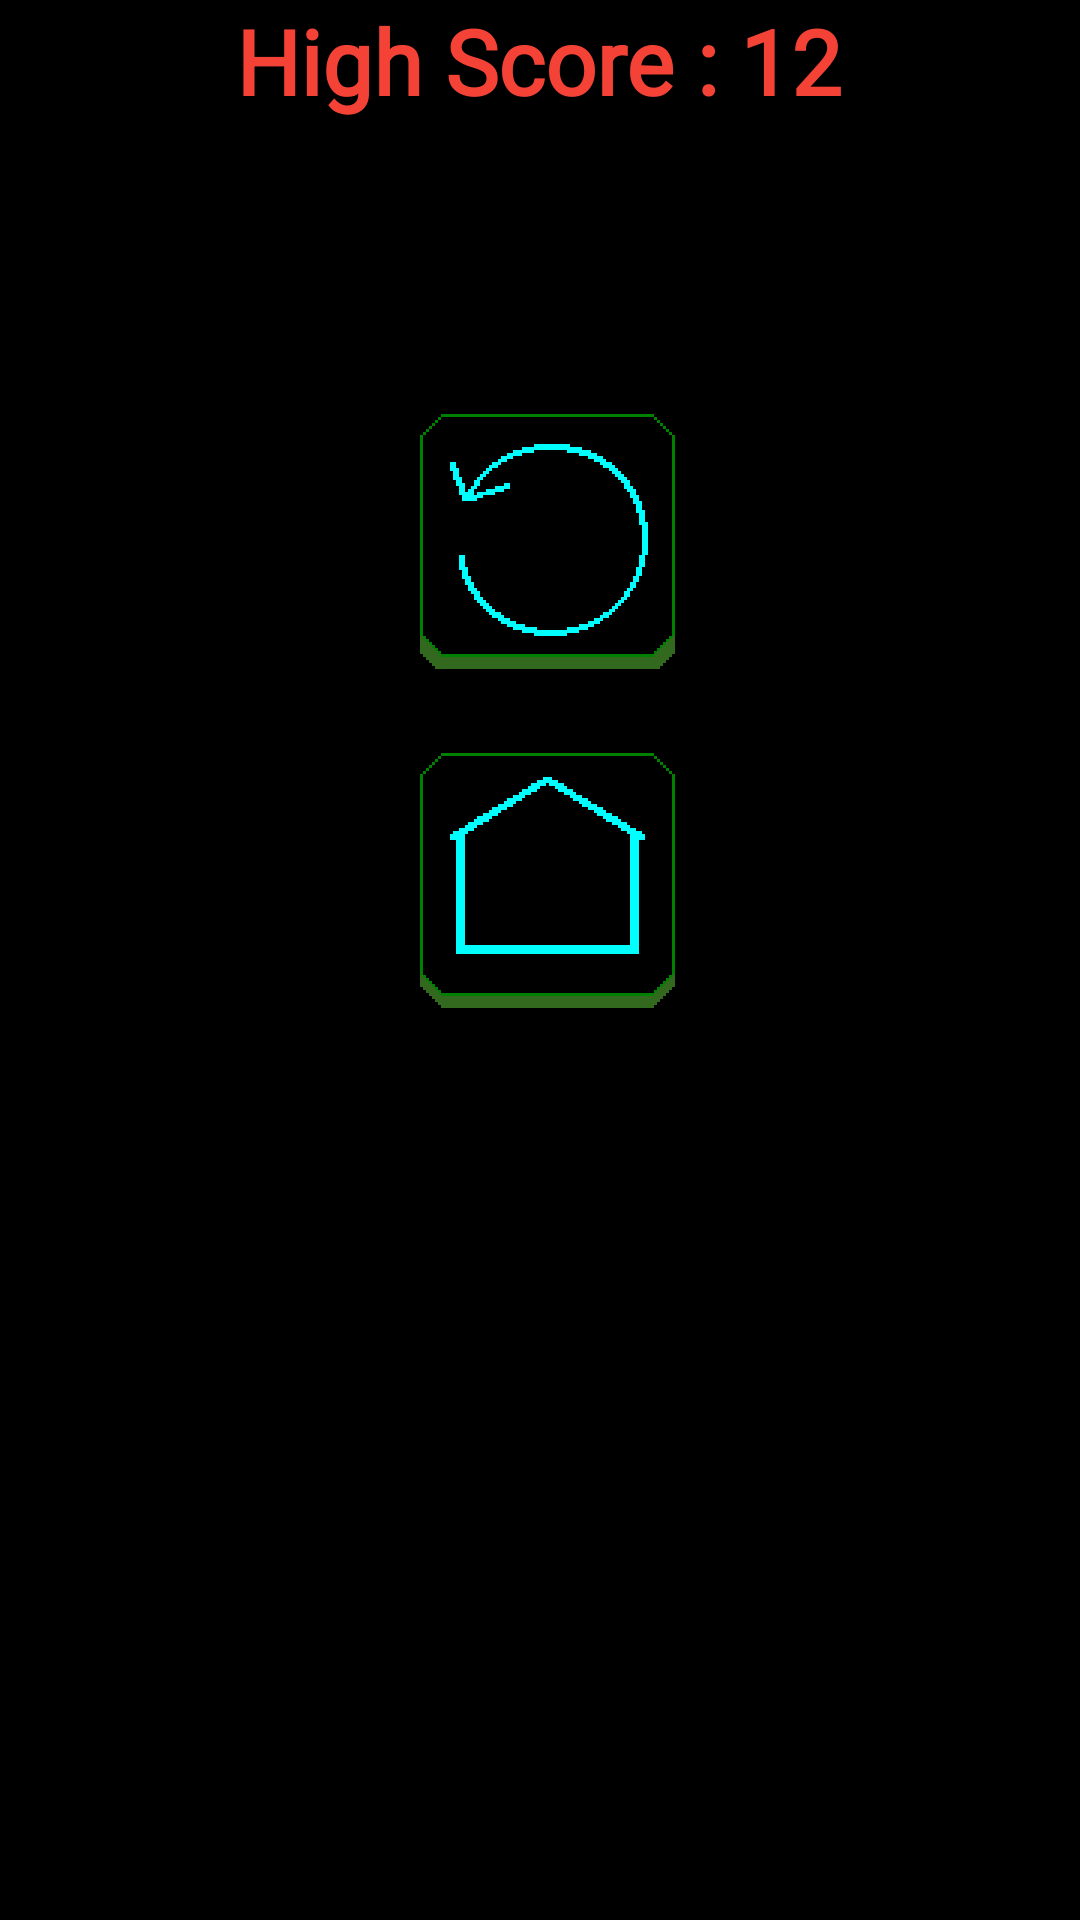

Named icons in this screenshot (1080x1920) and their centers, [x,y]:
butonmenu: [547,880]
butonrestart: [547,541]
